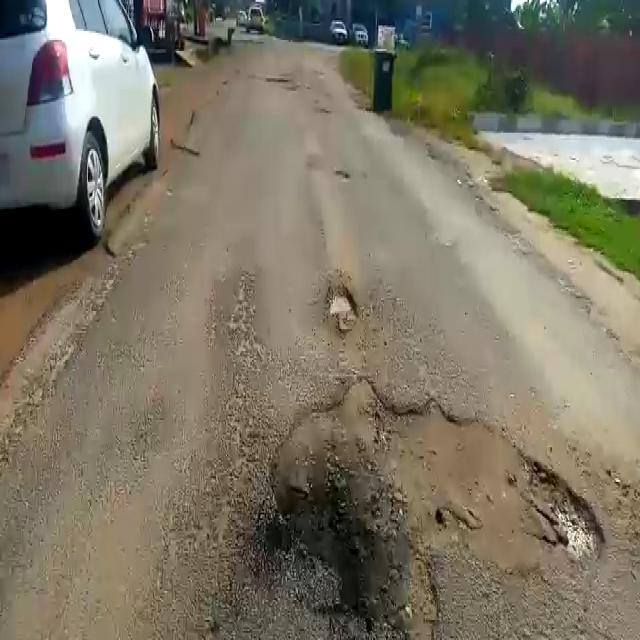Pothole: (269, 378, 607, 570), (322, 284, 359, 329)
